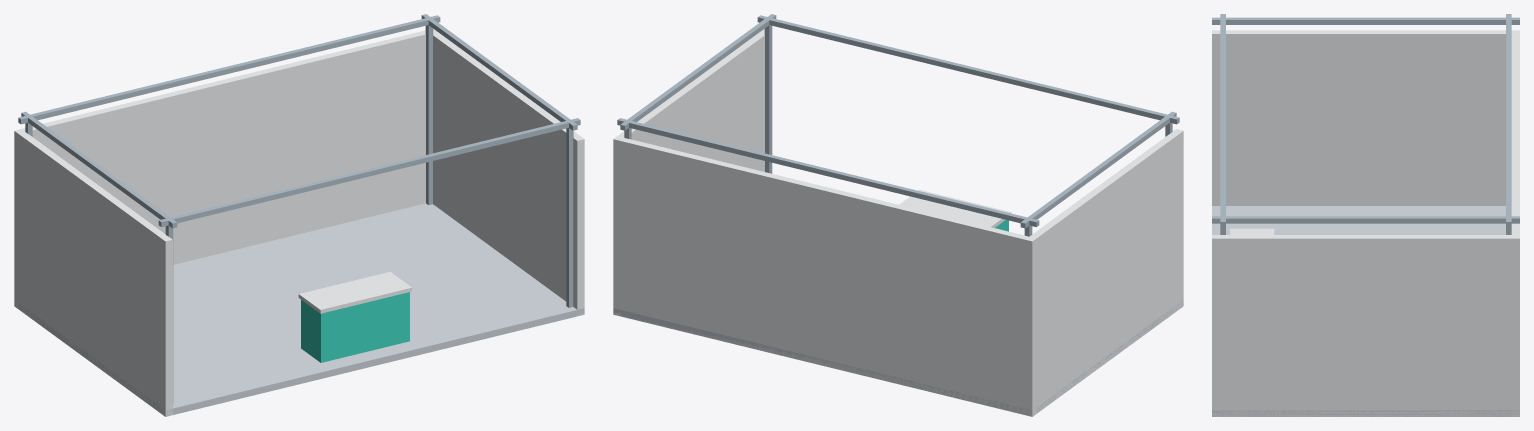
The picture shows the model from 3 angles, left to right: view 1: azimuth 30°, elevation 25°; view 2: azimuth 150°, elevation 25°; view 3: azimuth 270°, elevation 25°; orthographic projection.
Parts seen in each view (by area): view 1: Exhibition Booth Concept; view 2: Exhibition Booth Concept; view 3: Exhibition Booth Concept.
Part boxes in pixels (left/top/right/bottom): Exhibition Booth Concept: left=14, top=14, right=584, bottom=416; Exhibition Booth Concept: left=613, top=14, right=1183, bottom=416; Exhibition Booth Concept: left=1212, top=14, right=1519, bottom=416.
Bounding box in the file's own units: 8 × 3.49 × 5.
